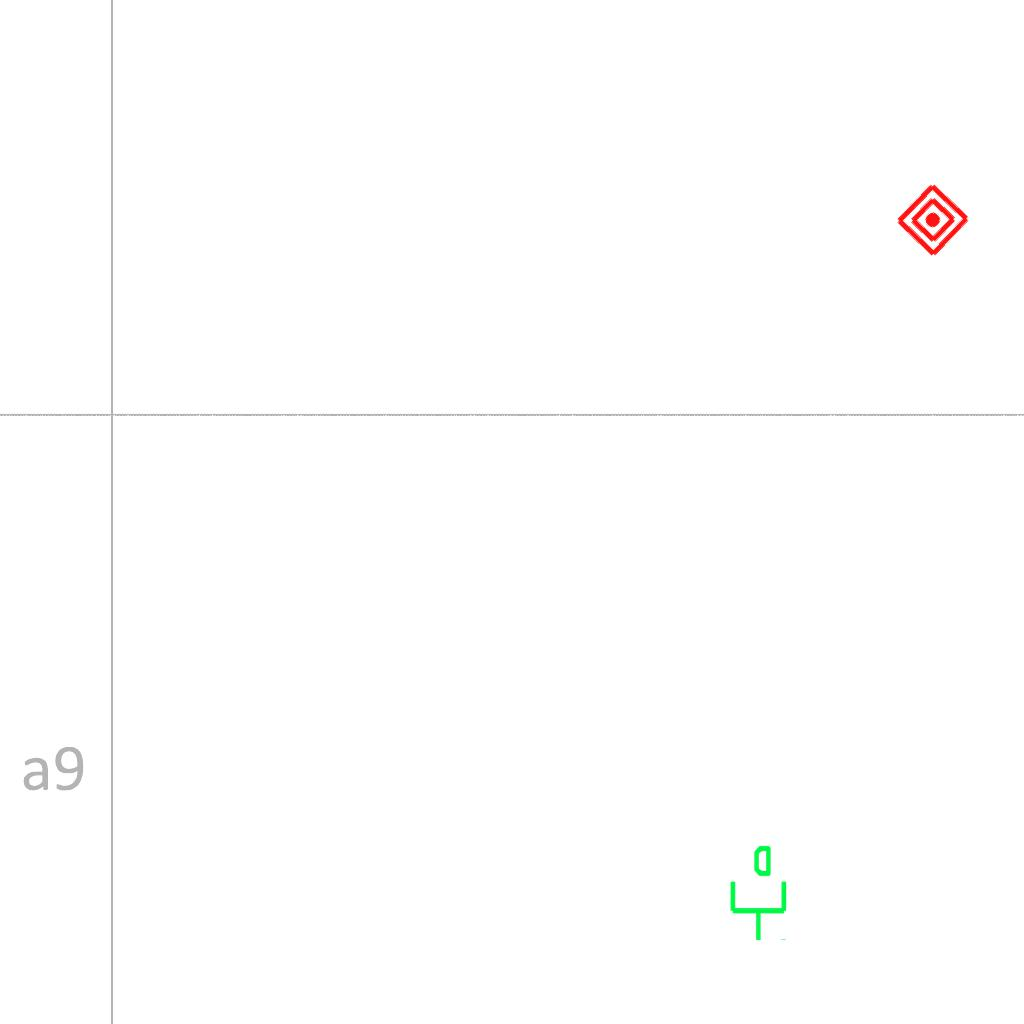Datenanschluss_einfach: (722, 843, 791, 943)
NAM-Nichtautomatischer_Melder: (893, 180, 973, 260)
